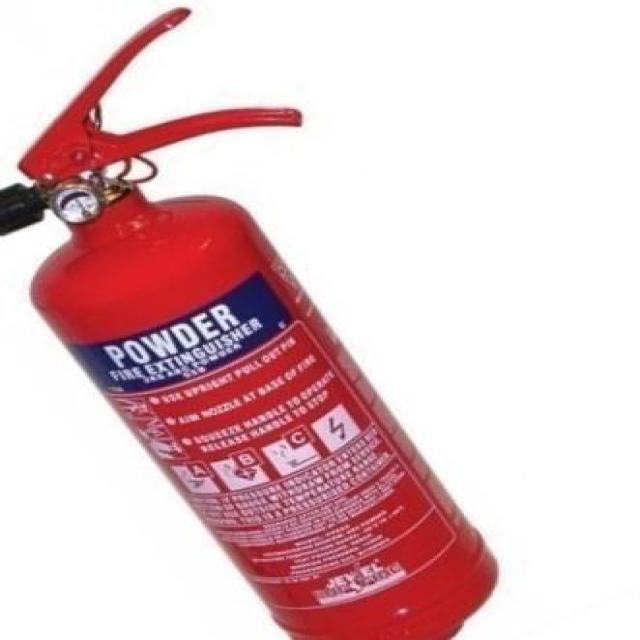fire_extinguisher: (0, 0, 505, 639)
